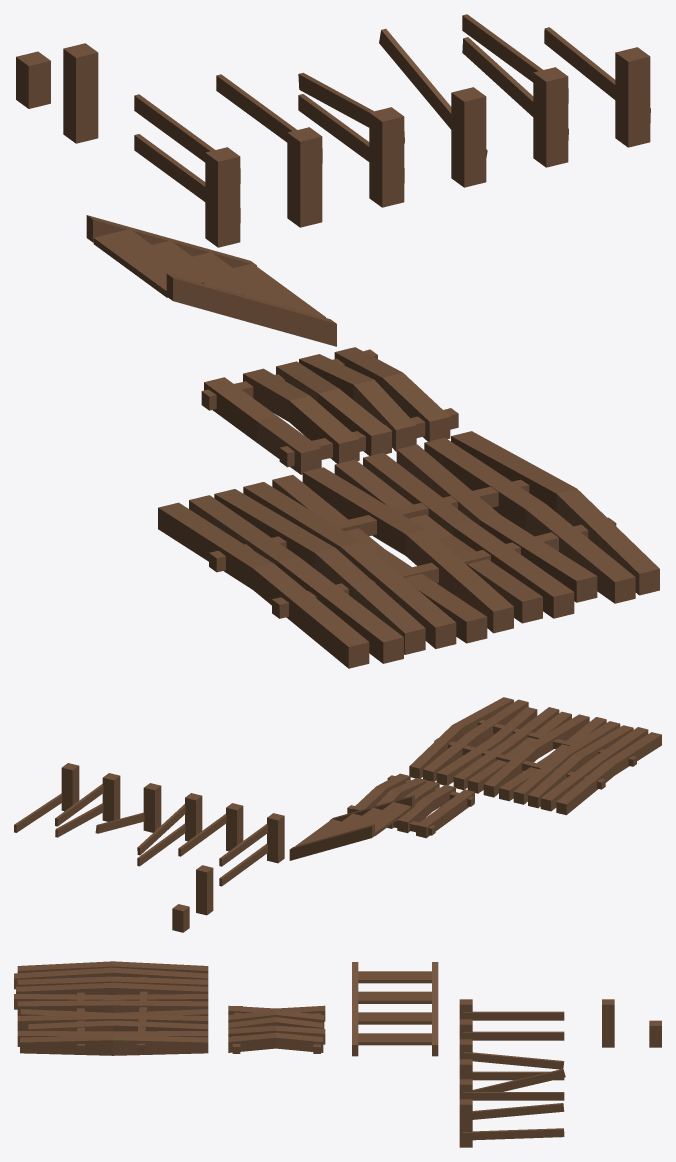
Rendered from Barrikade_Library.fbx.
3 views of the same model, one above another, from view 1: azimuth 30°, elevation 25°; view 2: azimuth 150°, elevation 25°; view 3: azimuth 270°, elevation 25° (orthographic). The views are drawn at different scales.
Parts seen in each view (by area): view 1: Plattform_Big, Plattform_Small, Stairs, Fence5, Fence1, Fence3, Fence4, Fence2, Fence6, Post_Big, Post_Small; view 2: Plattform_Big, Plattform_Small, Stairs, Fence1, Fence5, Fence3, Fence4, Fence6, Fence2, Post_Big, Post_Small; view 3: Plattform_Big, Stairs, Plattform_Small, Fence5, Fence3, Fence6, Fence1, Fence2, Fence4, Post_Big, Post_Small.
Part boxes in pixels (bbox=[...]): Plattform_Big: bbox=[158, 431, 659, 668]; Plattform_Small: bbox=[201, 347, 458, 474]; Stairs: bbox=[86, 215, 336, 346]; Fence5: bbox=[462, 14, 568, 167]; Fence1: bbox=[134, 94, 240, 247]; Fence3: bbox=[298, 72, 404, 207]; Fence4: bbox=[379, 28, 487, 187]; Fence2: bbox=[216, 74, 322, 227]; Fence6: bbox=[544, 27, 650, 147]; Post_Big: bbox=[63, 43, 98, 143]; Post_Small: bbox=[16, 51, 50, 108]; Plattform_Big: bbox=[409, 697, 661, 815]; Plattform_Small: bbox=[347, 773, 474, 838]; Stairs: bbox=[289, 795, 414, 860]; Fence1: bbox=[219, 813, 284, 886]; Fence5: bbox=[55, 773, 120, 837]; Fence3: bbox=[137, 793, 202, 866]; Fence4: bbox=[95, 783, 161, 833]; Fence6: bbox=[14, 763, 79, 832]; Fence2: bbox=[178, 803, 243, 856]; Post_Big: bbox=[196, 865, 213, 915]; Post_Small: bbox=[172, 904, 189, 932]; Plattform_Big: bbox=[14, 961, 208, 1055]; Stairs: bbox=[352, 962, 438, 1056]; Plattform_Small: bbox=[228, 1005, 325, 1053]; Fence5: bbox=[459, 1079, 564, 1119]; Fence3: bbox=[459, 1039, 564, 1080]; Fence6: bbox=[459, 1099, 564, 1147]; Fence1: bbox=[459, 999, 564, 1020]; Fence2: bbox=[459, 1019, 564, 1040]; Fence4: bbox=[459, 1059, 565, 1091]; Post_Big: bbox=[602, 999, 614, 1047]; Post_Small: bbox=[649, 1020, 661, 1047].
Size of the model in its own units: 923 by 134 by 1369.
